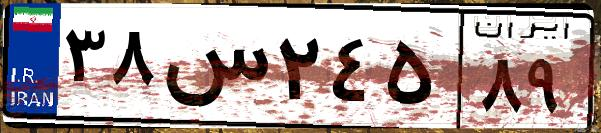2: (270, 28, 330, 110)
3: (57, 26, 110, 100)
4: (330, 28, 385, 110)
5: (385, 28, 445, 110)
8: (475, 38, 525, 113), (110, 28, 158, 98)
9: (525, 38, 570, 115)
س: (158, 20, 270, 120)
